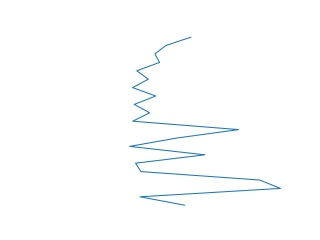crevasseRiverBedLagDeposit: (123, 34, 285, 211)
